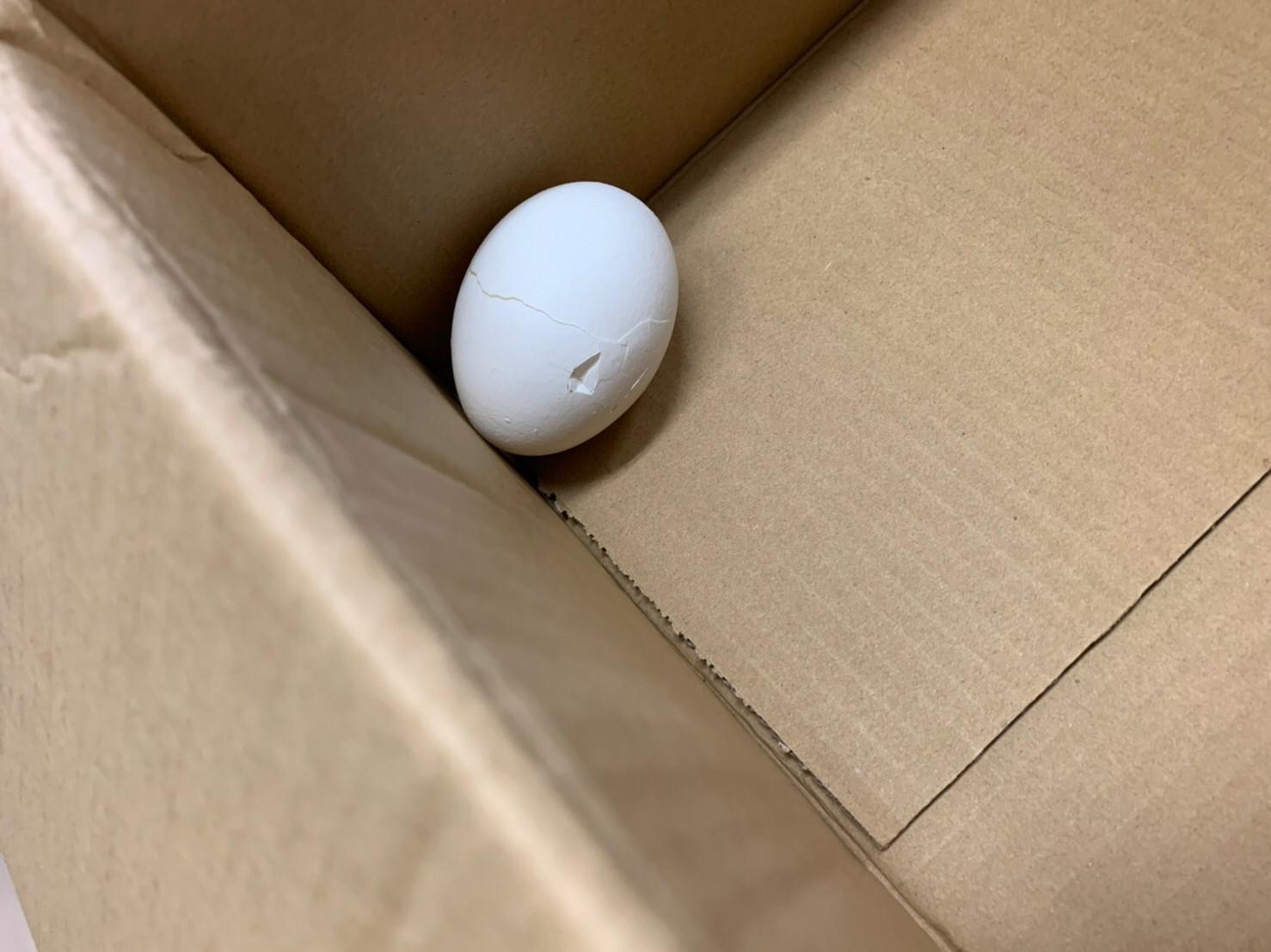egg: (445, 178, 685, 466)
